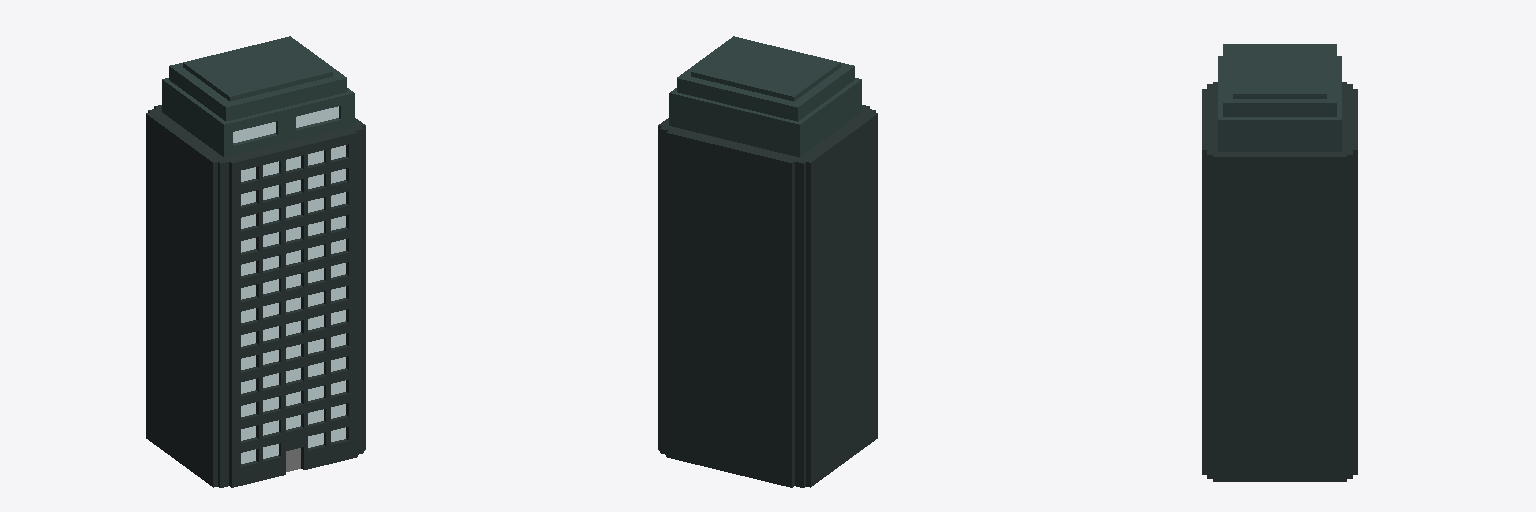
The picture shows the model from 3 angles: view 1: azimuth 30°, elevation 25°; view 2: azimuth 150°, elevation 25°; view 3: azimuth 270°, elevation 25°; orthographic projection.
Bounding box in the file's own units: 34 × 80 × 30.
Materials: 1 (1 with a texture image).